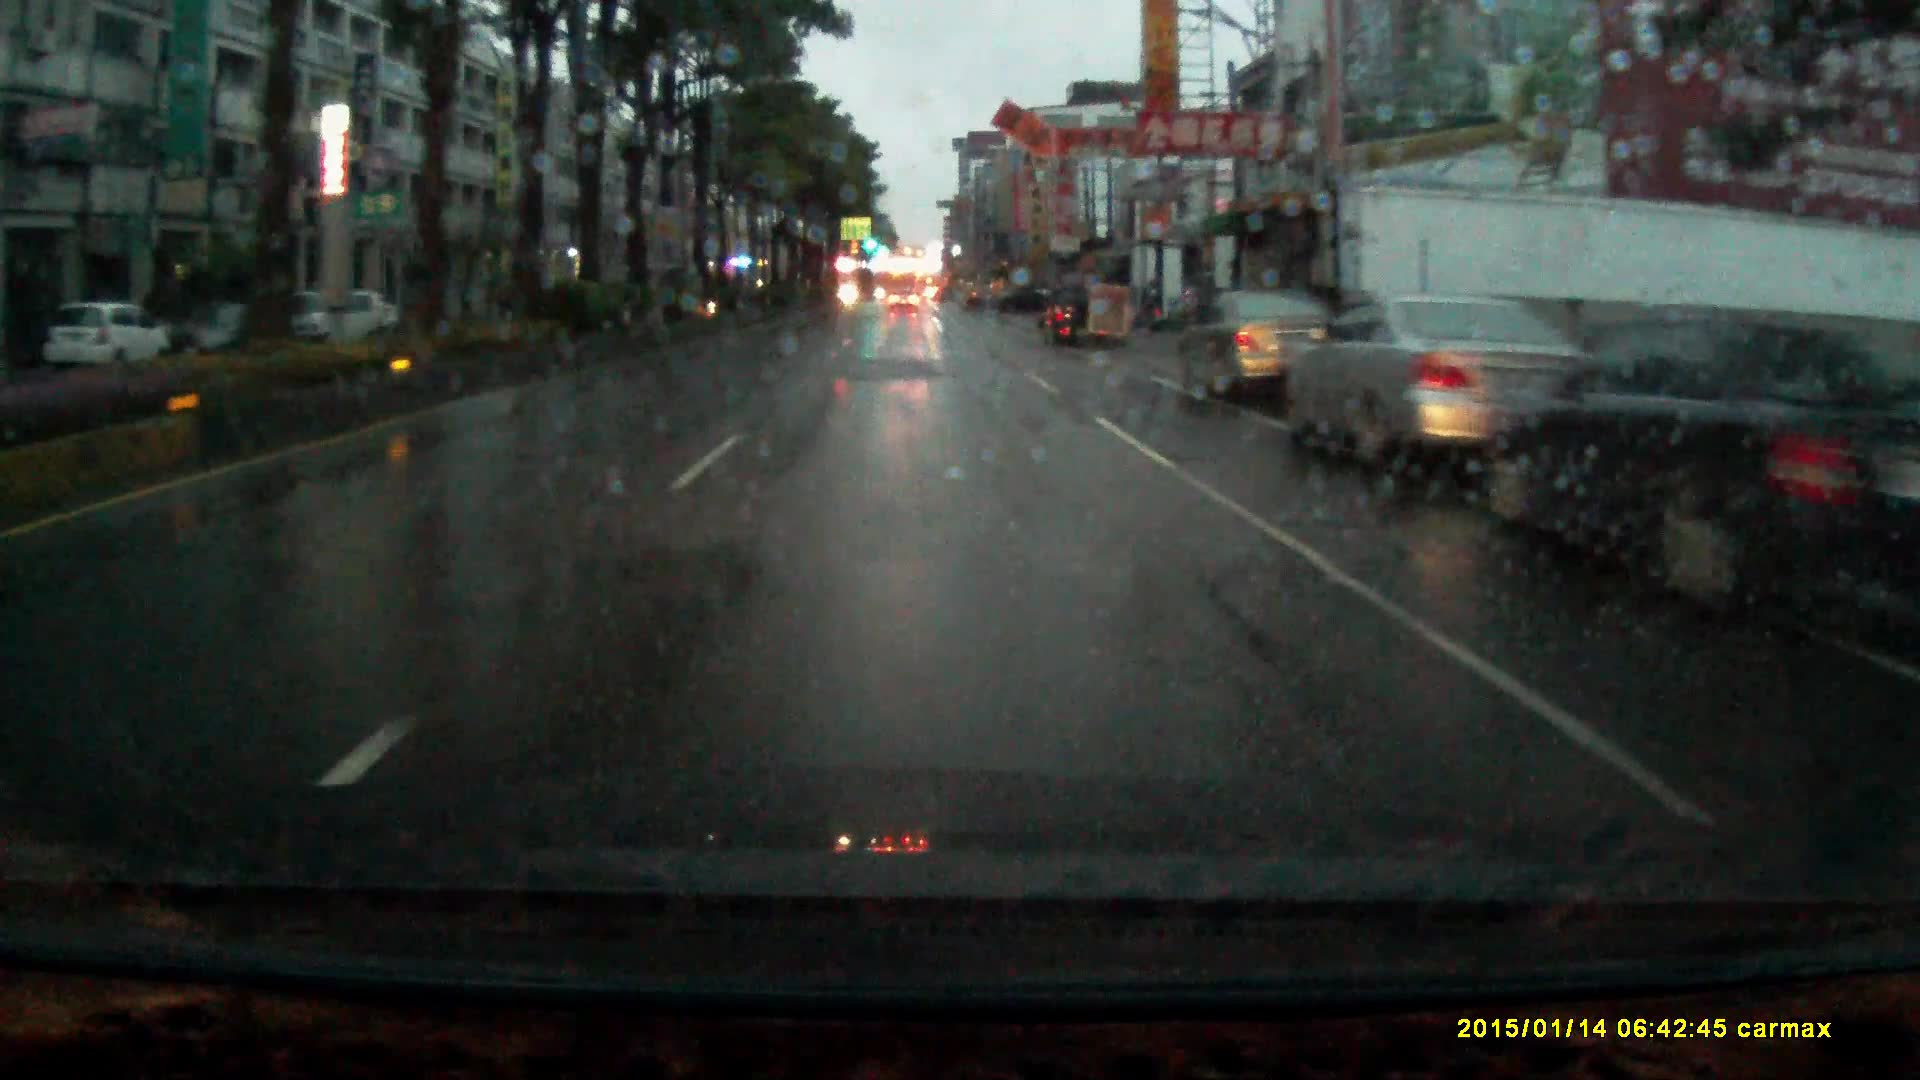vehicle: (1507, 314, 1807, 570), (1282, 295, 1662, 485), (1179, 297, 1342, 410), (251, 295, 386, 357), (58, 310, 177, 378), (1042, 285, 1117, 359), (887, 291, 920, 323)
